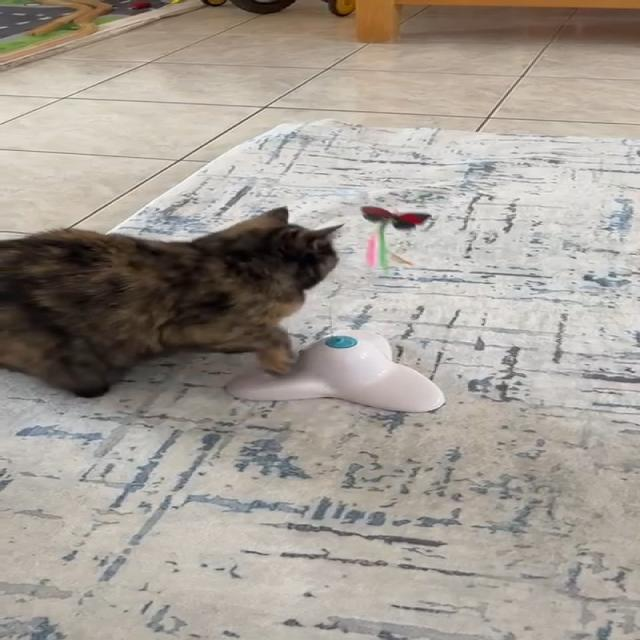authorized: (0, 205, 345, 397)
